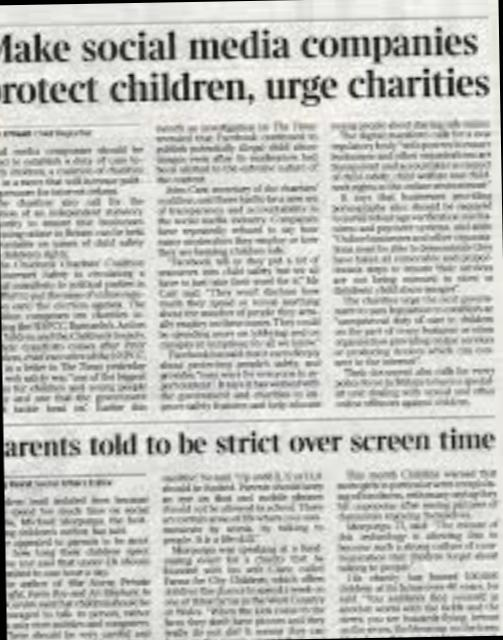cardboard paper: (0, 1, 503, 640)
